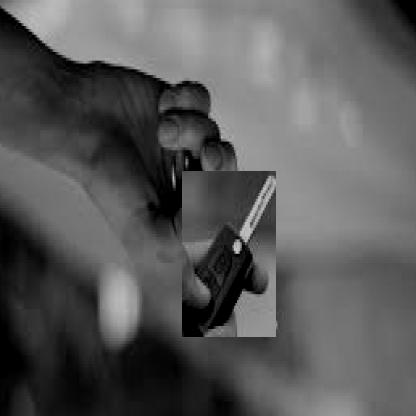key: (182, 171, 276, 337)
